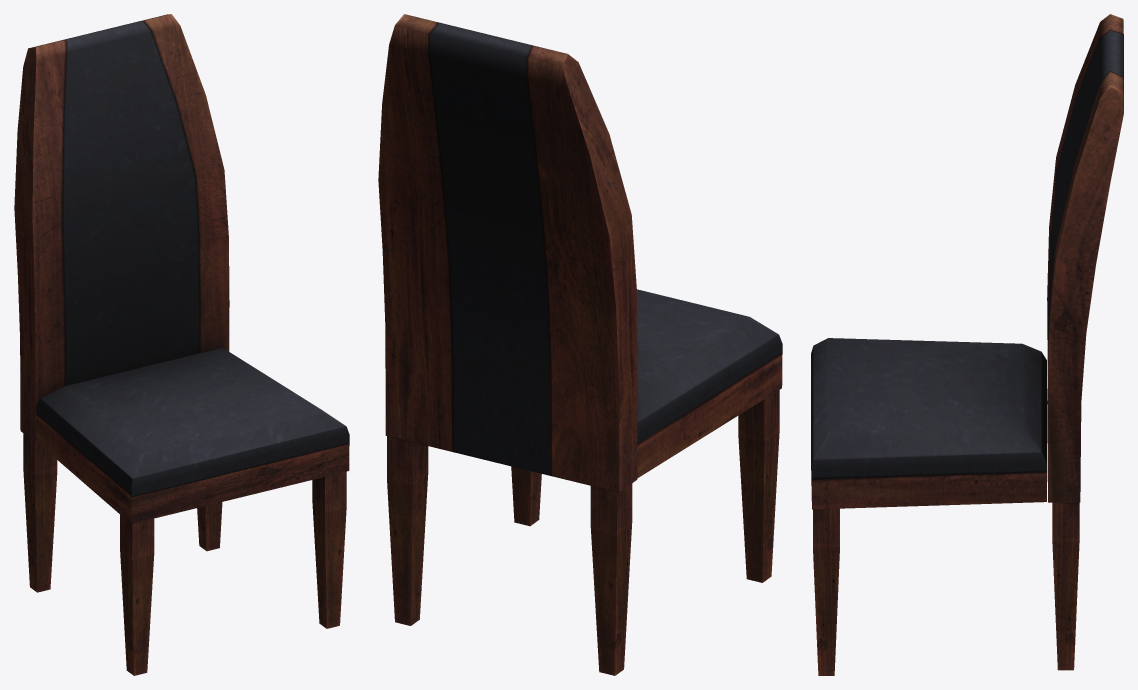
File: Sun_0084_Dining_chair.fbx
3 renders of one model, left to right at view 1: azimuth 30°, elevation 25°; view 2: azimuth 150°, elevation 25°; view 3: azimuth 270°, elevation 25°, orthographic. The views are drawn at different scales.
Visible parts, largest first — view 1: Sun_0084_Dining_chair; view 2: Sun_0084_Dining_chair; view 3: Sun_0084_Dining_chair.
Boxes of the visible parts, bbox=[...] form: Sun_0084_Dining_chair: bbox=[14, 14, 349, 675]; Sun_0084_Dining_chair: bbox=[378, 14, 782, 675]; Sun_0084_Dining_chair: bbox=[811, 14, 1123, 675].
Bounding box in the file's own units: 39.64 × 90.79 × 45.06.
